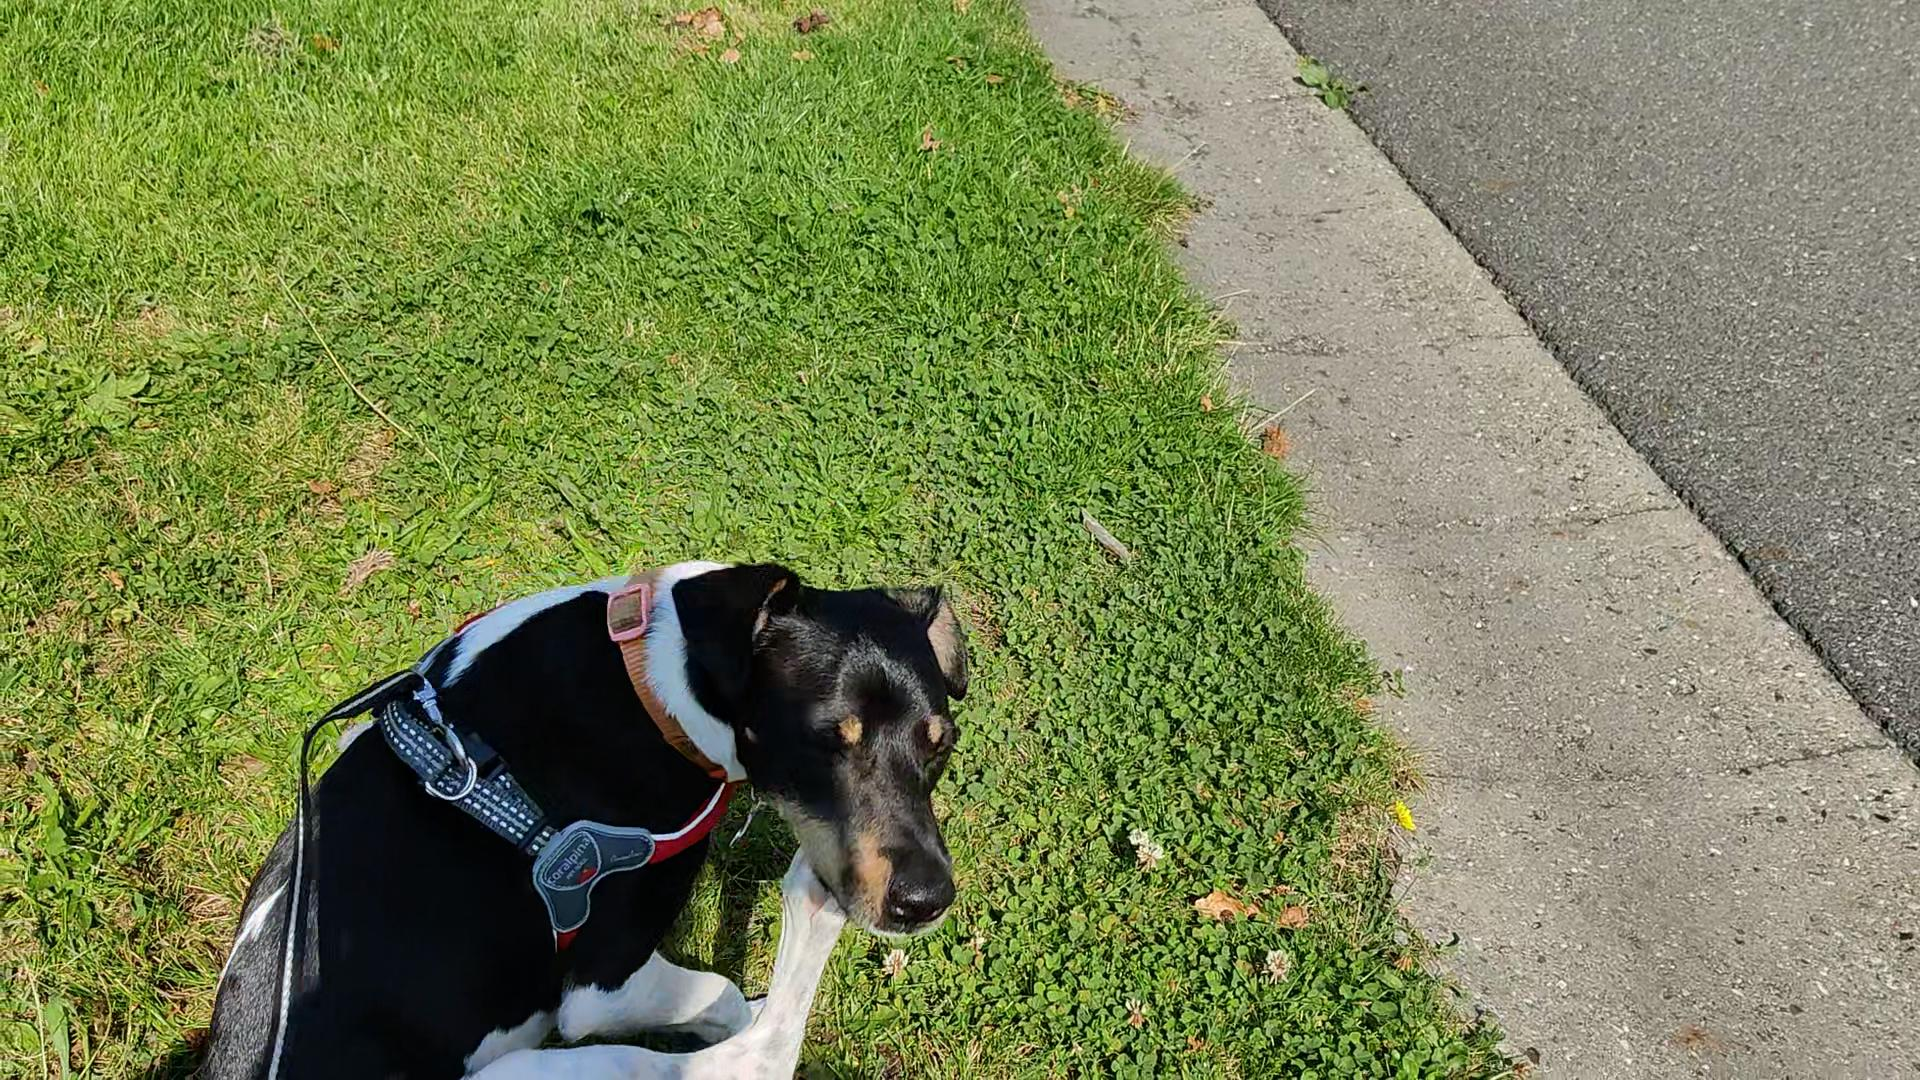Dog: (181, 547, 981, 1079)
